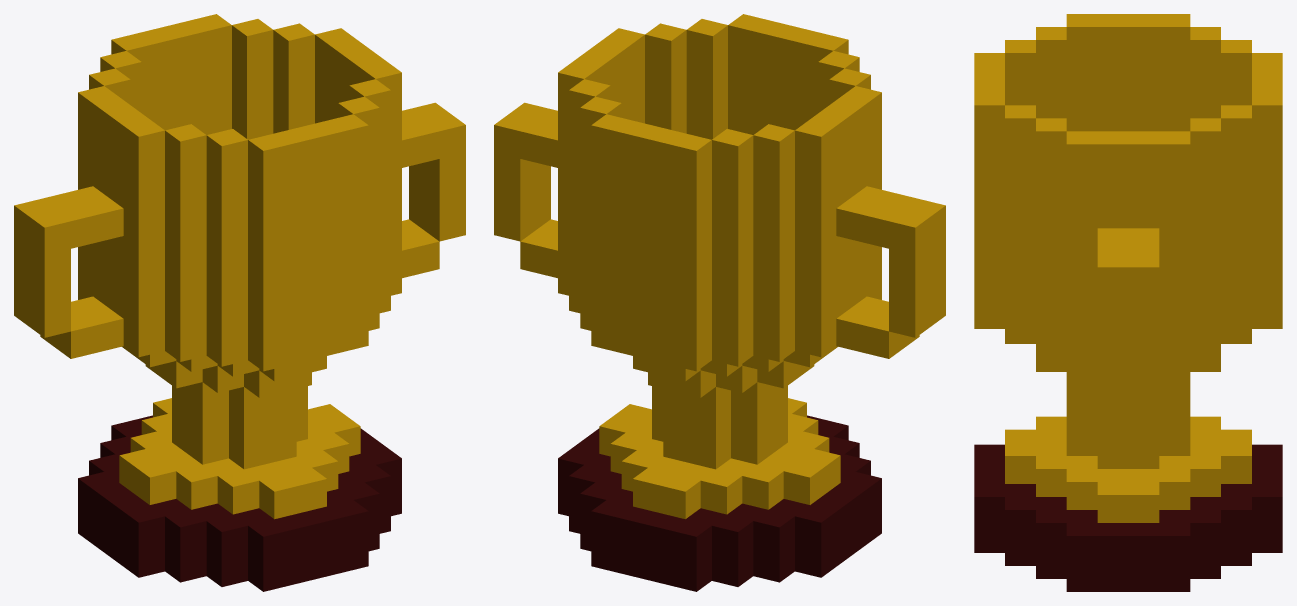
Rendered from Trophy-0.obj.
The picture shows the model from 3 angles, left to right: view 1: azimuth 30°, elevation 25°; view 2: azimuth 150°, elevation 25°; view 3: azimuth 270°, elevation 25°; orthographic projection.
Visible parts, largest first — view 1: Trophy-0; view 2: Trophy-0; view 3: Trophy-0.
Part boxes in pixels (left/top/right/bottom): Trophy-0: left=14, top=14, right=465, bottom=591; Trophy-0: left=494, top=14, right=945, bottom=591; Trophy-0: left=974, top=14, right=1282, bottom=591.
Bounding box in the file's own units: 16 × 16 × 10.
Materials: 1 (1 with a texture image).
